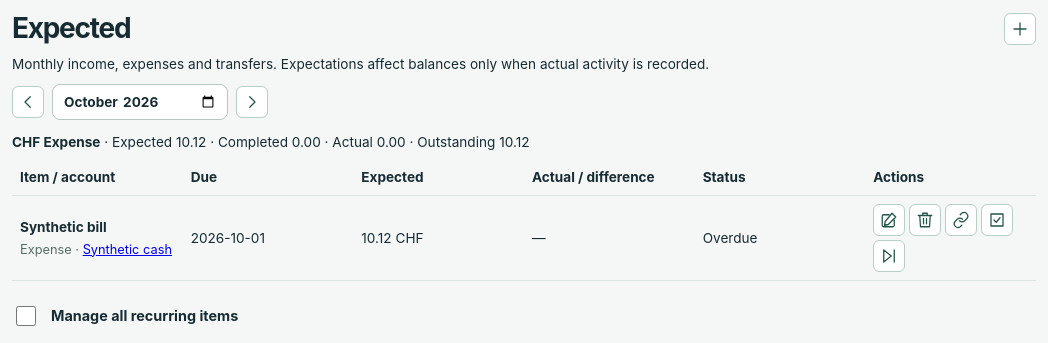
it: shows rounded expectations and changes month automatically
Expected: the text "Overdue" is shown, [695,196,865,281]
Expected: the text "10.12 CHF" is shown, [353,196,524,281]
Replace the text in the field named "Expected month" with "2026-11" at (140, 102), box [52,84,228,120]
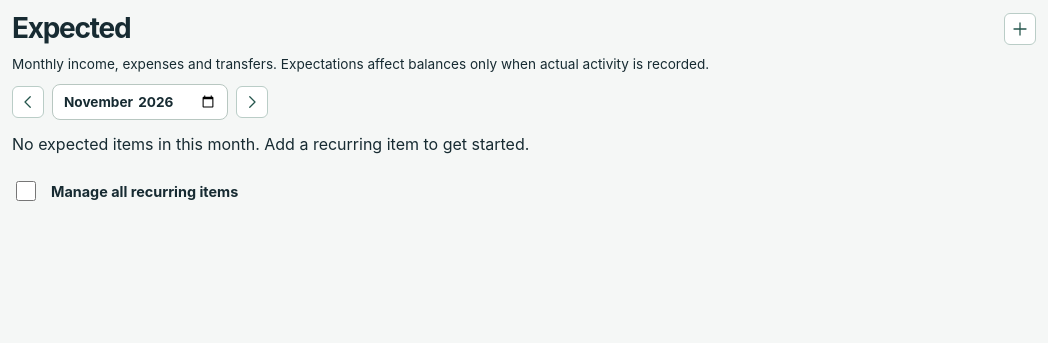
Now the text "No expected items" is shown, box [12,134,529,154]
